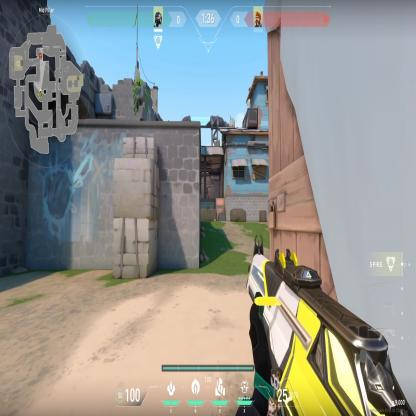enemy: (206, 184, 209, 199)
